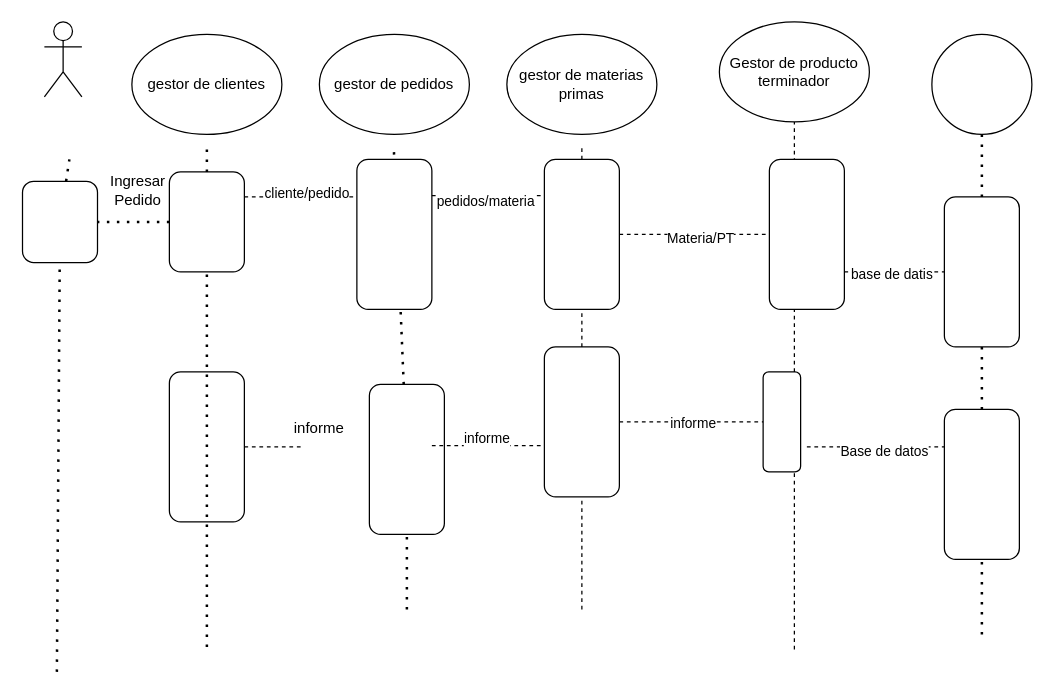
Image size: 1054x696. Some labels were removed from this diagram. Each missing label, with the centre of its shape:
Actor: point 62,59
database: point 981,83
